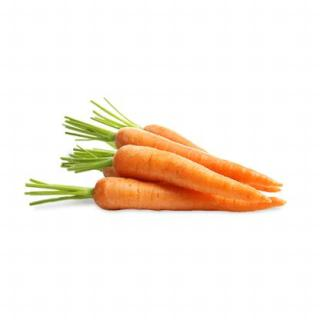Wortel: (114, 147, 274, 207), (91, 178, 286, 212)
